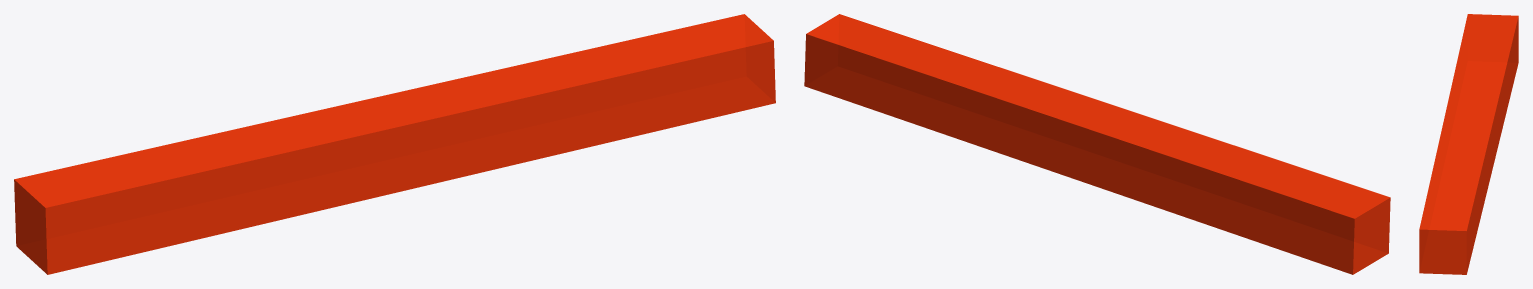
The model's file is Event_420094457_EErechit_21.fbx.
3 renders of one model, left to right at view 1: azimuth 30°, elevation 25°; view 2: azimuth 150°, elevation 25°; view 3: azimuth 270°, elevation 25°, orthographic. The views are drawn at different scales.
Visible parts, largest first — view 1: Model; view 2: Model; view 3: Model.
Boxes of the visible parts, x1,y1,x2,y2 form: Model: [14, 14, 775, 274]; Model: [804, 14, 1390, 274]; Model: [1419, 14, 1518, 274].
Size of the model in its own units: 0.8451 by 0.1057 by 0.1513.
